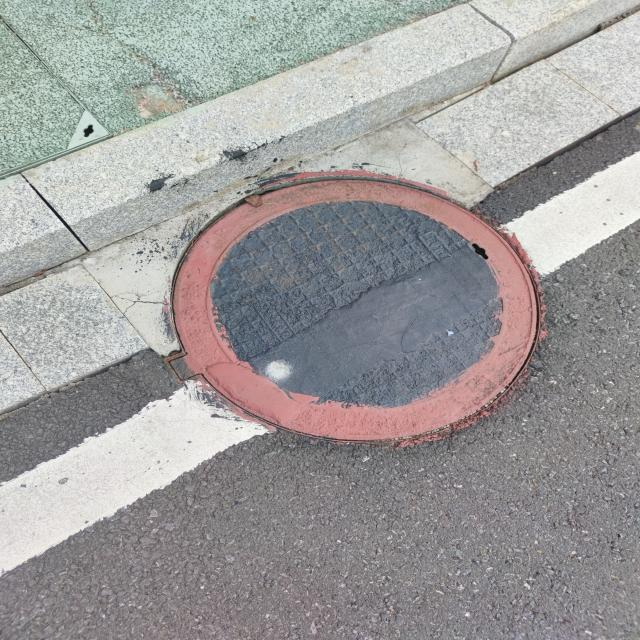Good: (162, 174, 548, 454)
